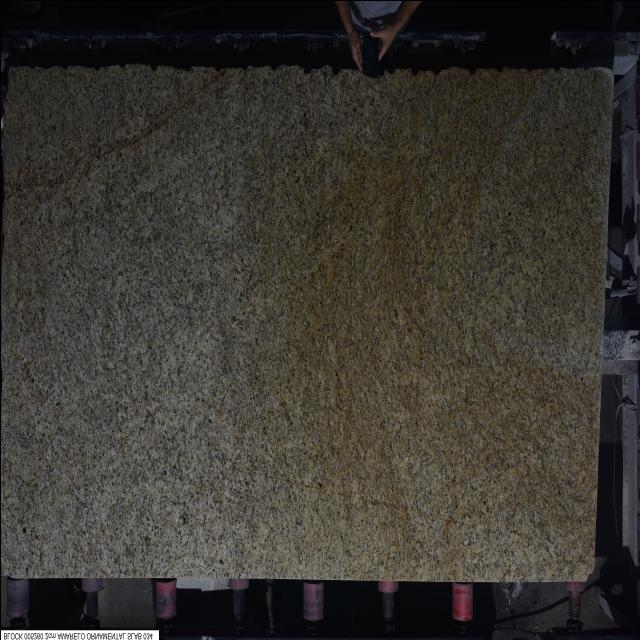chapa: (0, 62, 611, 580)
